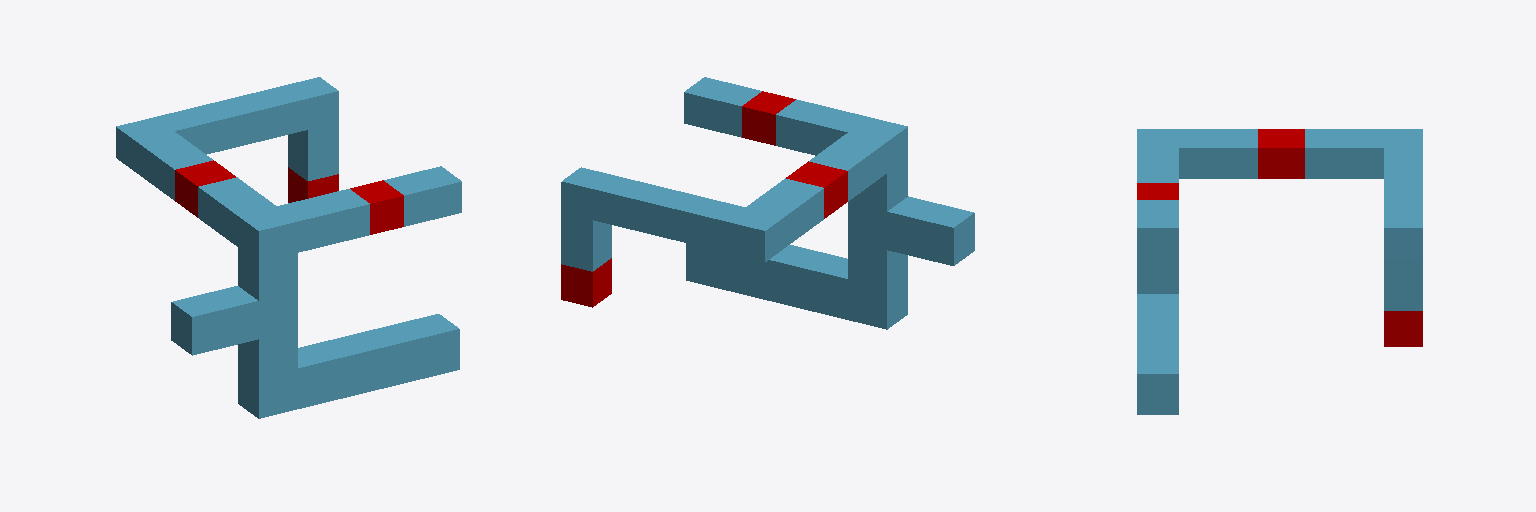
Rendered from Level_2_Floor.obj.
3 renders of one model, left to right at view 1: azimuth 30°, elevation 25°; view 2: azimuth 150°, elevation 25°; view 3: azimuth 270°, elevation 25°, orthographic.
Parts seen in each view (by area): view 1: Cube.007_Cube.014; view 2: Cube.007_Cube.014; view 3: Cube.007_Cube.014.
Part boxes in pixels (x1,y1,x2,y2): Cube.007_Cube.014: (116, 77, 461, 418); Cube.007_Cube.014: (561, 77, 974, 329); Cube.007_Cube.014: (1137, 129, 1422, 414).
Bounding box in the file's own units: 10.31 × 6.84 × 9.43.